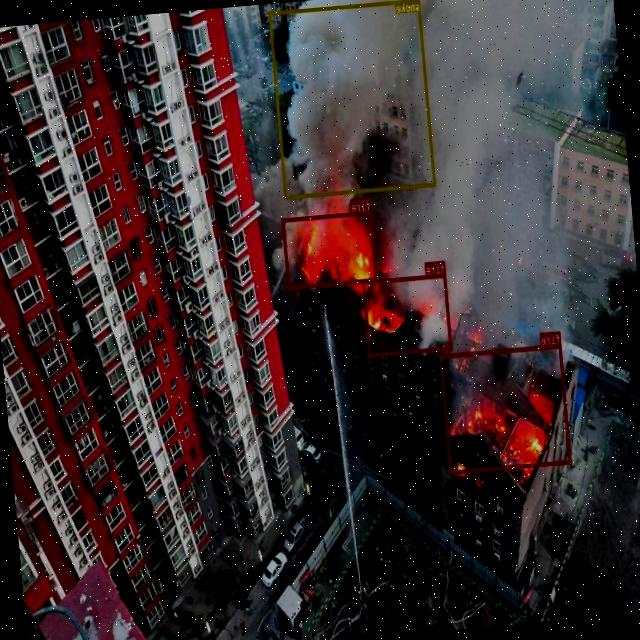fire: (439, 343, 572, 473), (362, 272, 452, 356), (282, 210, 378, 288)
smoke: (269, 0, 436, 198)
